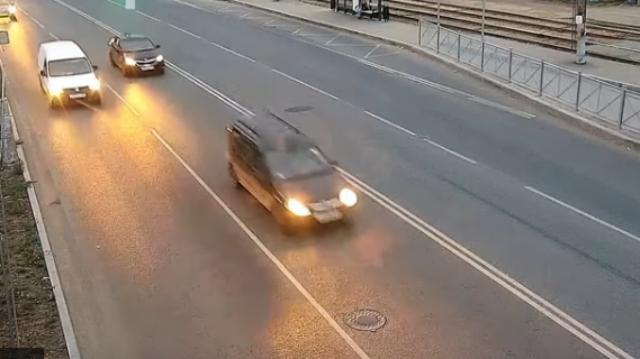non emergency car: (226, 110, 354, 234), (39, 42, 103, 111), (110, 34, 167, 80), (1, 2, 19, 25)
